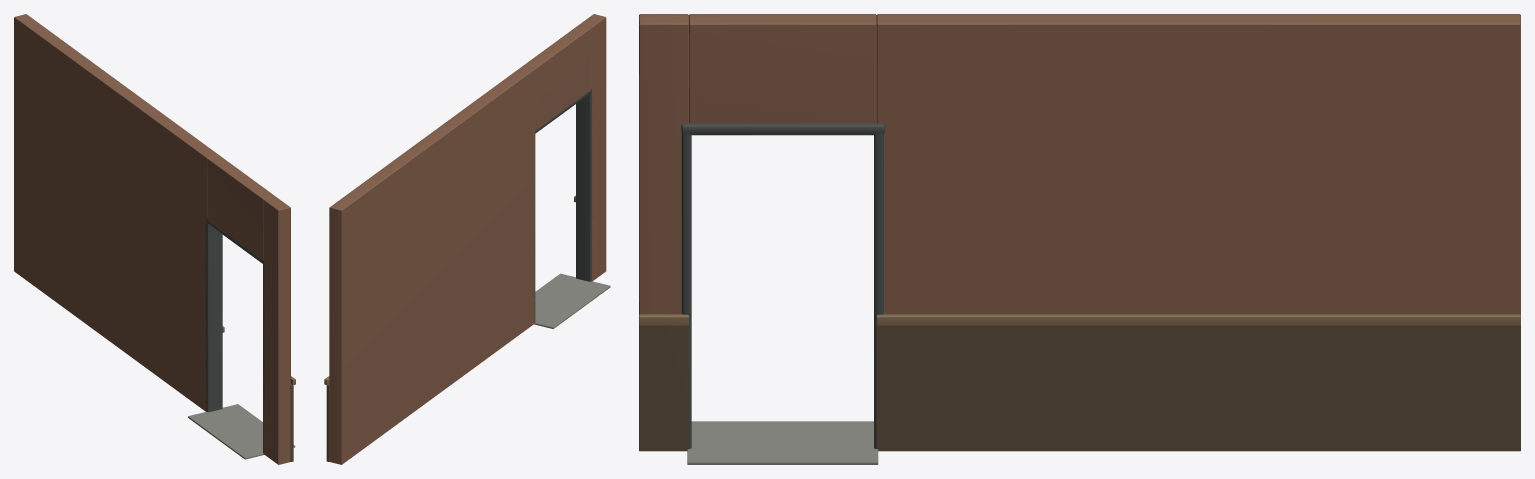
The model's file is Pawnshop_RightPartition62.fbx.
3 views of the same model, side by side, from view 1: azimuth 30°, elevation 25°; view 2: azimuth 150°, elevation 25°; view 3: azimuth 270°, elevation 25° (orthographic). The views are drawn at different scales.
Parts seen in each view (by area): view 1: Pawnshop_RightPartition62; view 2: Pawnshop_RightPartition62; view 3: Pawnshop_RightPartition62.
Part boxes in pixels (box(x1,y1,x2,y2)): Pawnshop_RightPartition62: box(14, 14, 295, 464); Pawnshop_RightPartition62: box(324, 14, 610, 464); Pawnshop_RightPartition62: box(639, 14, 1520, 464).
Size of the model in its own units: 62 by 301 by 564.
